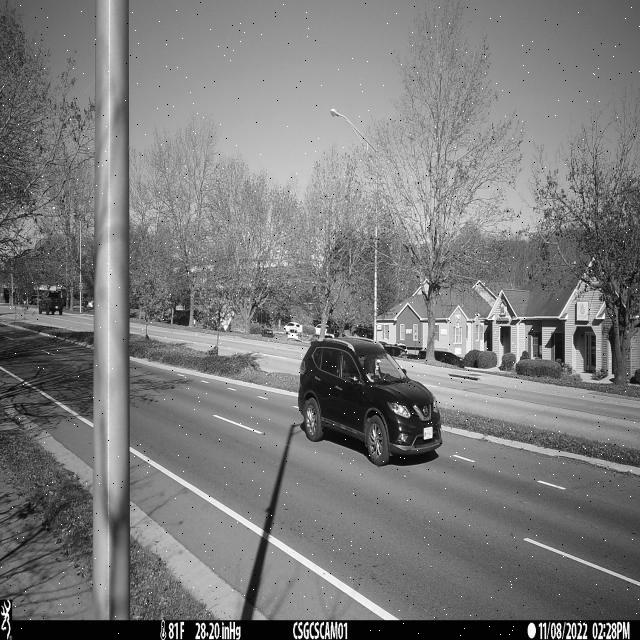SUV: (298, 335, 443, 467)
